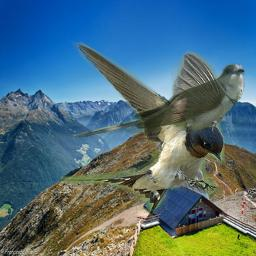Cuckoo: (72, 62, 245, 141)
Swallow: (61, 40, 225, 214)
